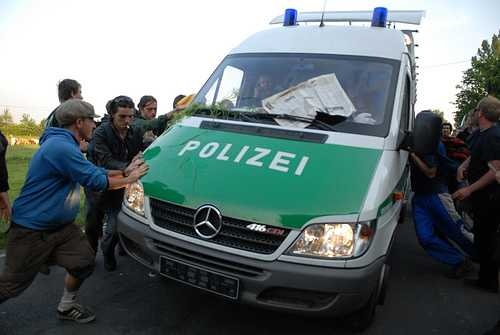Police Van: (136, 14, 413, 319)
